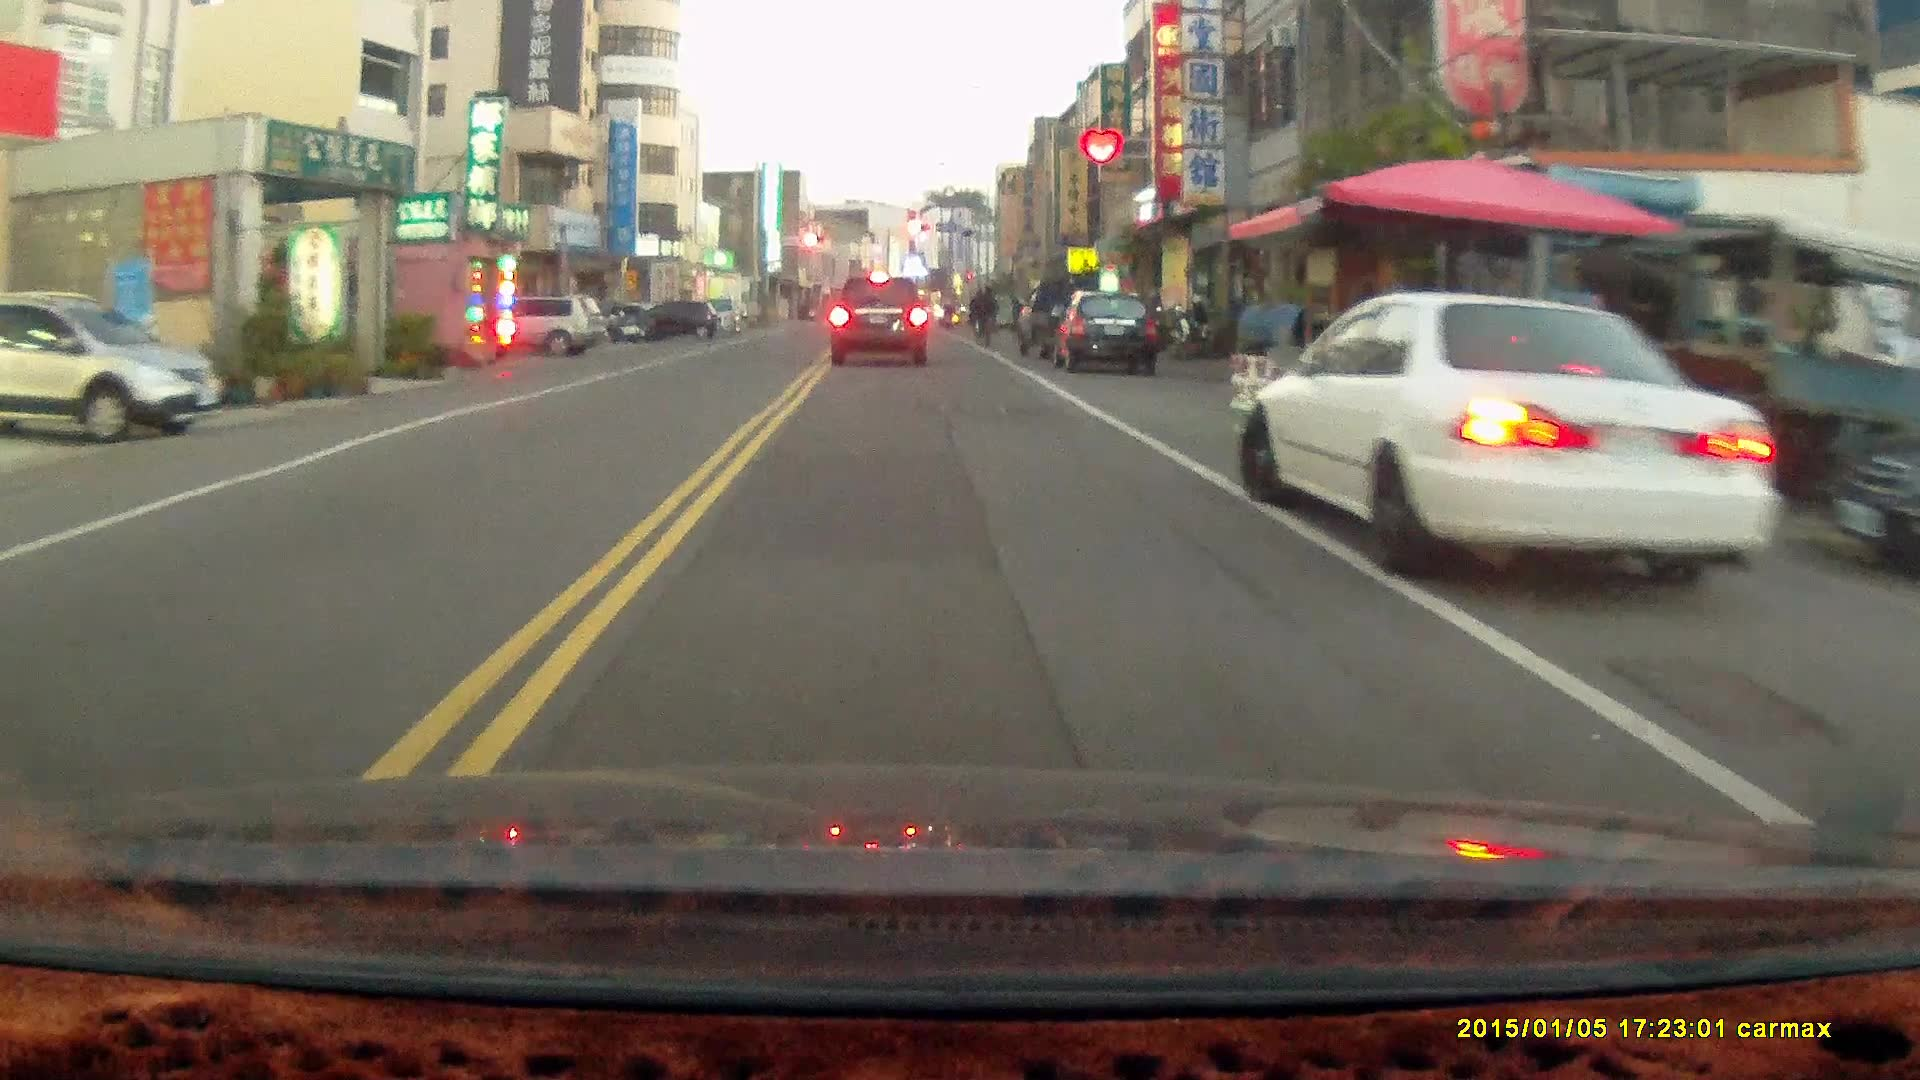rider: (970, 280, 1000, 347)
vehicle: (1242, 289, 1791, 581), (1, 288, 227, 445), (1825, 421, 1920, 589), (1051, 292, 1169, 379), (830, 274, 931, 370), (473, 295, 608, 357), (627, 296, 724, 341)
